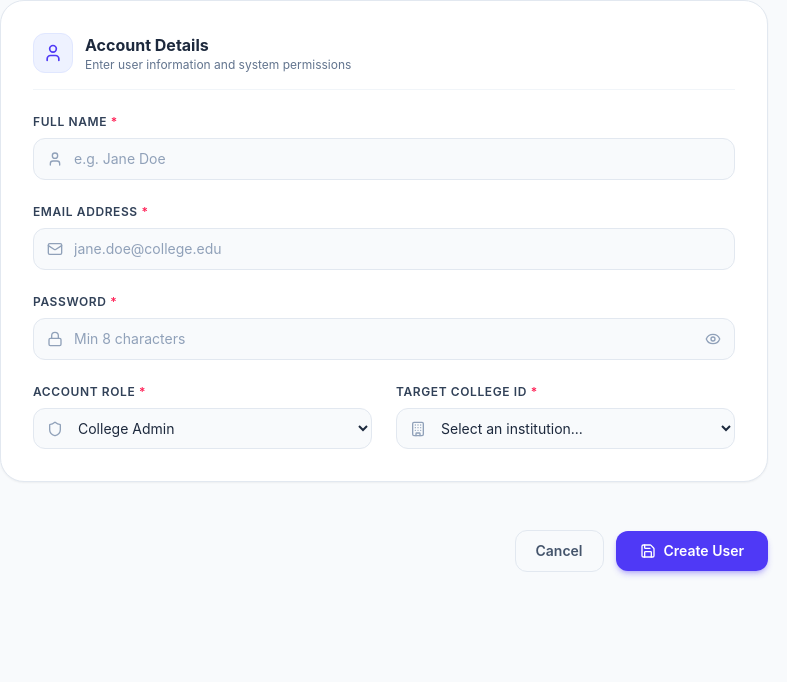
Test: GROUP E — USER UI COMPONENTS & FORMS › 5. UserForm validates required fields in create mode for SUPER_ADMIN
The image size is (787, 682).
Click the button "Create User": (692,551) [616, 531, 768, 571]
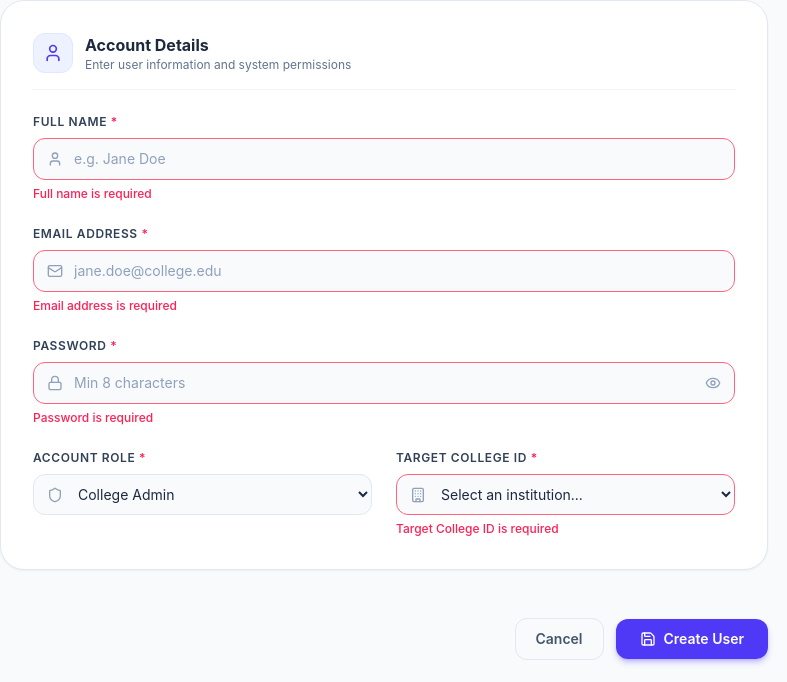
Expected: the text "Full name is required" is shown, [33, 186, 152, 201]
Expected: the text "Email address is required" is shown, [33, 298, 177, 313]
Expected: the text "Password is required" is shown, [33, 410, 153, 425]
